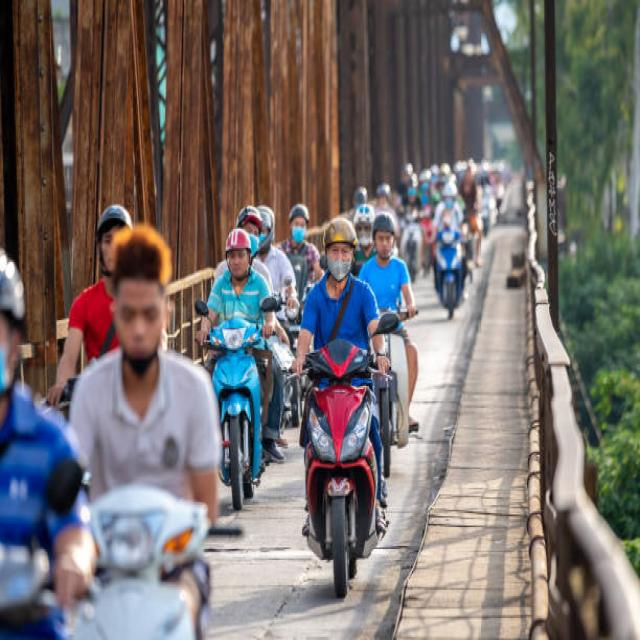high_traffic: (79, 132, 506, 640)
